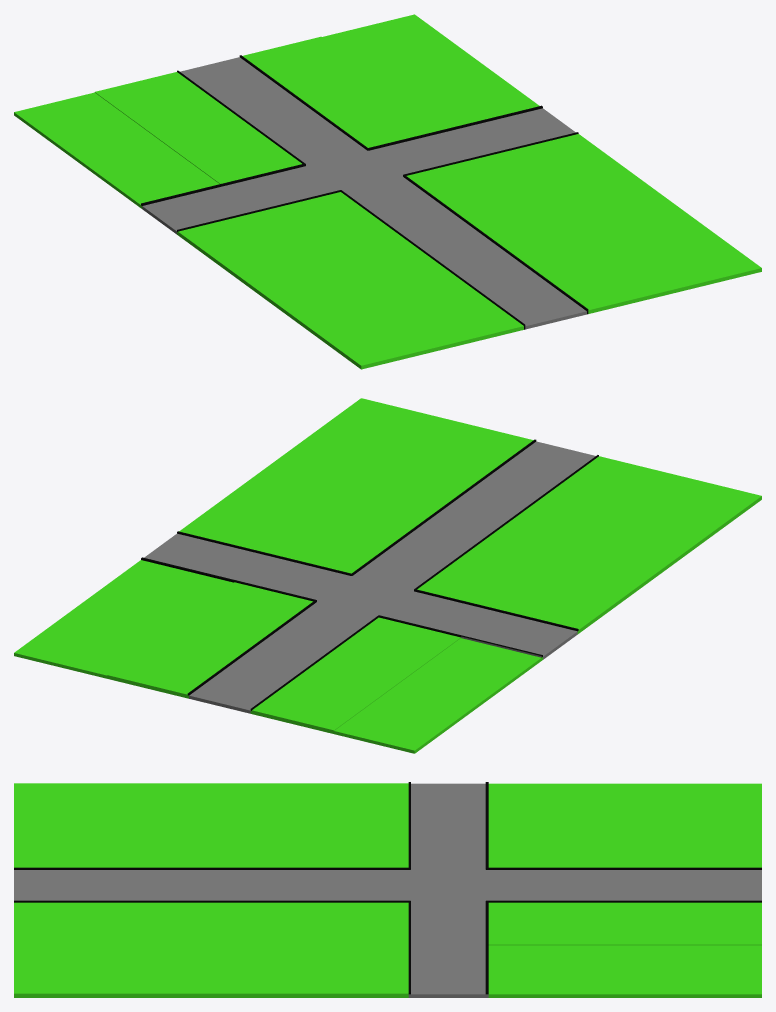
File: Zemin.fbx
3 renders of one model, top to bottom at view 1: azimuth 30°, elevation 25°; view 2: azimuth 150°, elevation 25°; view 3: azimuth 270°, elevation 25°, orthographic. The views are drawn at different scales.
Visible parts, largest first — view 1: Floor; view 2: Floor; view 3: Floor.
Boxes of the visible parts, x1,y1,x2,y2 form: Floor: [14, 14, 761, 369]; Floor: [14, 398, 761, 753]; Floor: [14, 782, 761, 997].
Size of the model in its own units: 5217 by 60 by 7829.
